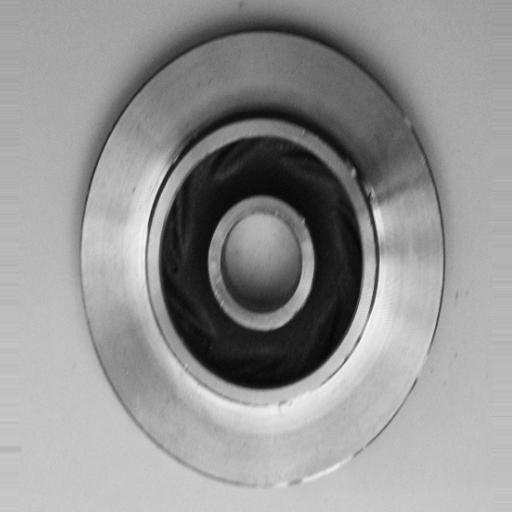crack: (344, 155, 384, 221)
scratch: (243, 452, 367, 507), (255, 380, 339, 416)
unpolished_casting: (75, 29, 453, 494)
